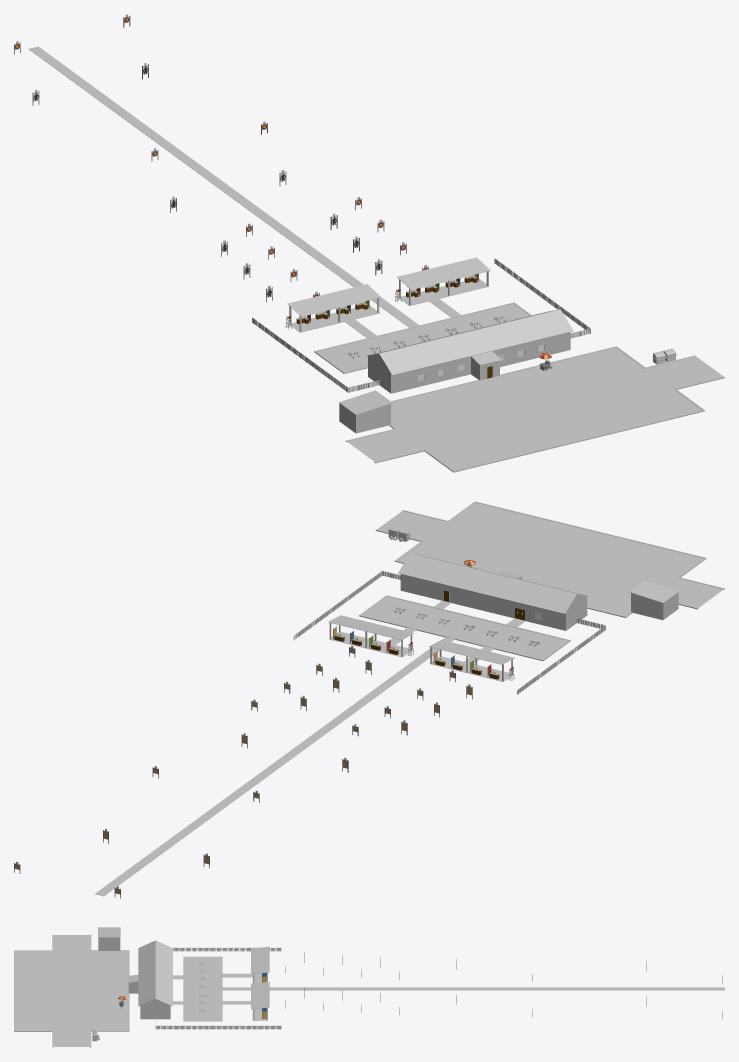
Rendered from ShootingRange.fbx.
3 views of the same model, one above another, from view 1: azimuth 30°, elevation 25°; view 2: azimuth 150°, elevation 25°; view 3: azimuth 270°, elevation 25° (orthographic). The views are drawn at different scales.
Visible parts, largest first — view 1: Parking.002, Roof002, Tropka.040, ShutHause.032, Parking.003, BordurV.003, Roof.002, Roof.001, Floor.001, Floor.002, GarajeShoot, WoodFence1.001 (+1 smaller); view 2: Parking.002, Parking.003, Roof002, Tropka.040, ShutHause.032, Floor.002, Floor.001, BordurV.003, GarajeShoot, Parking.001, Roof.001, Roof.002 (+1 smaller); view 3: Parking.002, Parking.003, Roof002, Tropka.040, ShutHause.032, WoodFence1.003, BordurV.003, Roof.001, Roof.002, WoodFence1.001, Parking.001, GarajeRioof.
Boxes of the visible parts, x1,y1,x2,y2 form: Parking.002: (347, 347, 723, 470); Roof002: (366, 309, 573, 375); Tropka.040: (29, 46, 419, 327); ShutHause.032: (368, 332, 570, 393); Parking.003: (317, 303, 529, 371); BordurV.003: (345, 346, 724, 472); Roof.002: (397, 257, 490, 289); Roof.001: (287, 284, 381, 316); Floor.001: (289, 298, 379, 332); Floor.002: (399, 271, 489, 305); GarajeShoot: (339, 403, 390, 432); WoodFence1.001: (252, 318, 379, 392); Parking.002: (377, 502, 723, 615); Parking.003: (361, 596, 567, 659); Roof002: (398, 553, 588, 613); Tropka.040: (95, 637, 454, 896); ShutHause.032: (400, 574, 587, 630); Floor.002: (329, 623, 412, 657); Floor.001: (430, 647, 513, 681); BordurV.003: (375, 501, 724, 617); GarajeShoot: (631, 592, 678, 619); Parking.001: (359, 595, 570, 660); Roof.001: (429, 640, 514, 664); Roof.002: (328, 615, 414, 639); Parking.002: (15, 935, 128, 1046); Parking.003: (184, 957, 221, 1020); Roof002: (138, 940, 172, 1006); Tropka.040: (222, 987, 724, 990); ShutHause.032: (128, 981, 170, 1018); WoodFence1.003: (155, 1016, 281, 1029); BordurV.003: (14, 934, 129, 1047); Roof.001: (251, 946, 269, 974); Roof.002: (251, 982, 269, 1009); WoodFence1.001: (173, 947, 281, 951); Parking.001: (183, 956, 222, 1021); GarajeRioof: (98, 927, 120, 937).
Bounding box in the file's own units: 7001 × 620 × 18730.
